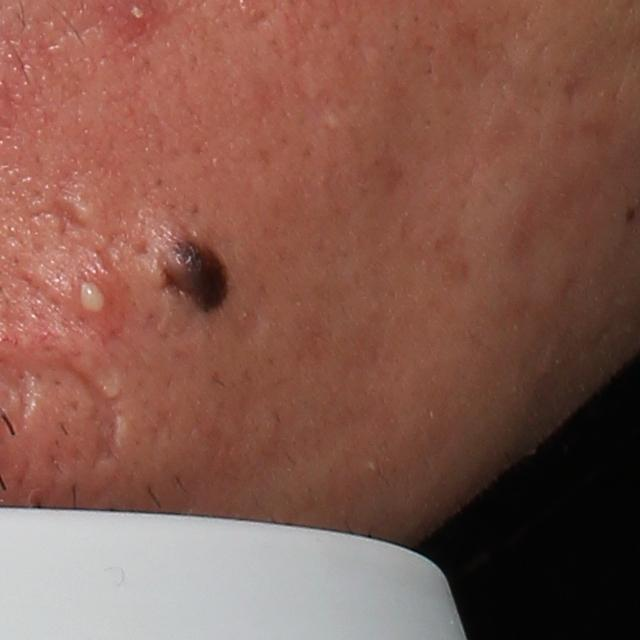atrophic_scar: (42, 183, 81, 239)
nevus: (150, 230, 240, 318)
pustule: (71, 277, 113, 318)
